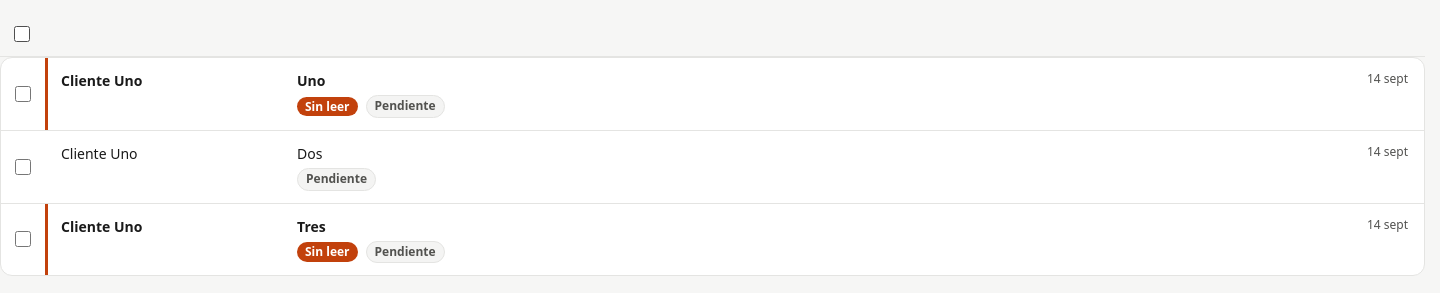
Test: elegir hilos › al marcar aparece la barra y dice cuántos
What coordinates should you click on to do the following:
click the 2nd checkbox
I would click on:
 (23, 94)
Its box is x1=15 y1=86 x2=31 y2=102.
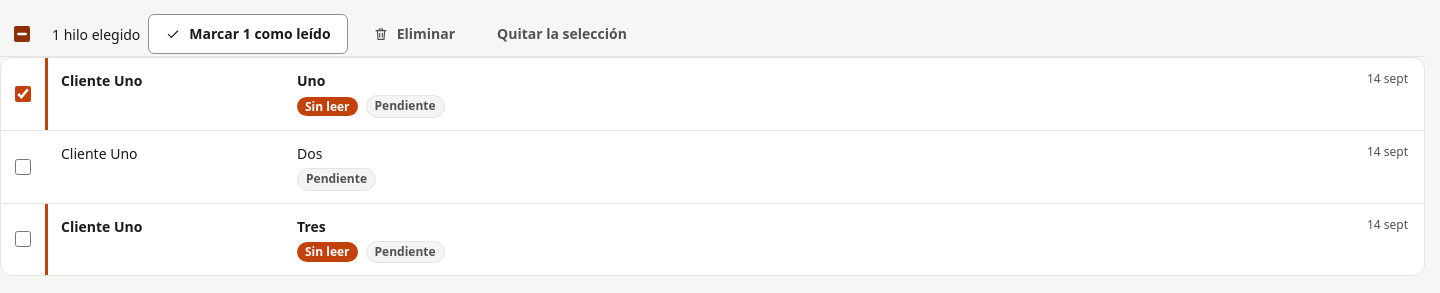
expect the text "1 hilo elegido" is shown: met, box x1=52 y1=24 x2=140 y2=44
What coordinates should you click on to do the following:
click the checkbox in the row of "Dos"
I would click on:
 (23, 167)
Its box is x1=15 y1=159 x2=31 y2=175.
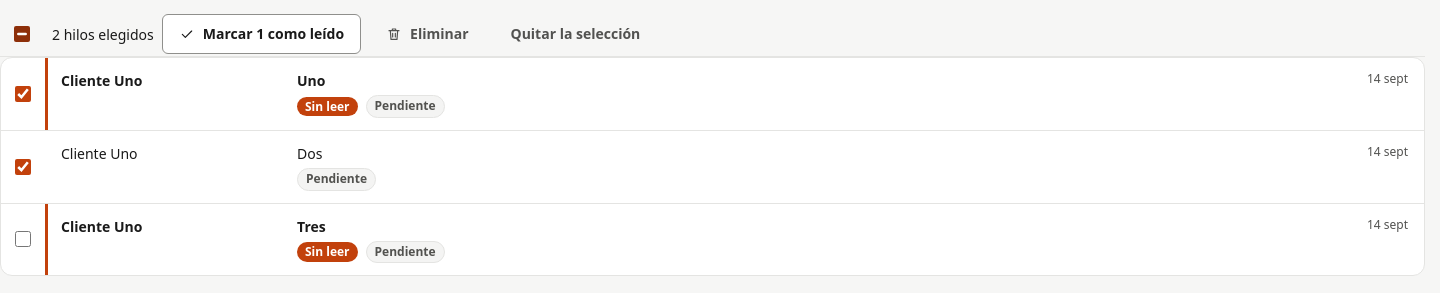
expect the text "2 hilos elegidos" is shown: met, box x1=52 y1=24 x2=154 y2=44
